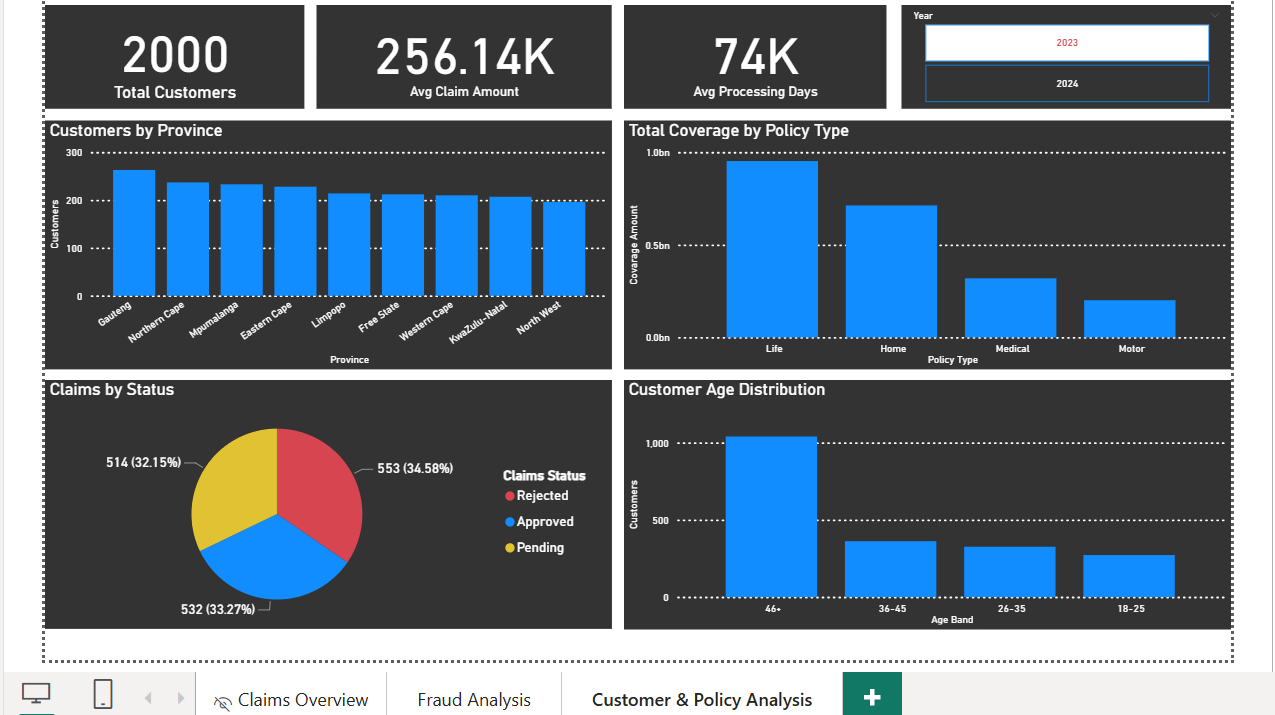

Layout of this report page (visuals, bound fields, positions):
{"tool":"powerbi","page":{"name":"Customer & Policy Analysis","canvas":[1280,720],"ordinal":2},"visuals":[{"type":"card","fields":{"Values":["CountNonNull(dim_Customer.Customer_Key)"]},"box":[0,13,280.1,111.7],"z":0},{"type":"clusteredColumnChart","fields":{"Category":["dim_Customer.Province"],"Y":["CountNonNull(dim_Customer.Customer_Key)"]},"box":[0,137.6,612.1,268.8],"z":1},{"type":"card","fields":{"Values":["Avg(fact_InsuranceClaims.Claim_Amount)"]},"box":[293.1,13,319,111.7],"z":2},{"type":"card","fields":{"Values":["Sum(fact_InsuranceClaims.Processing_Days)"]},"box":[625,13,283.4,111.7],"z":3},{"type":"pieChart","title":"Claims by Status","fields":{"Category":["fact_InsuranceClaims.Claim_Status"],"Y":["CountNonNull(fact_InsuranceClaims.Claim_Id)"]},"box":[0,417.8,612.1,268.8],"z":4},{"type":"clusteredColumnChart","title":" Total Coverage by Policy Type","fields":{"Category":["dim_Policy.Policy_Type"],"Y":["Sum(dim_Policy.Covarage_Amount)"]},"box":[625,137.6,655.8,268.8],"z":5},{"type":"clusteredColumnChart","title":"Customer Age Distribution","fields":{"Category":["dim_Customer.Age_Band"],"Y":["CountNonNull(dim_Customer.Customer_Key)"]},"box":[625,418,655,269],"z":6},{"type":"slicer","fields":{"Values":["dim_Date.Year"]},"box":[924.6,13,356.2,111.7],"z":8}]}

Visuals, with their boxes on the page's 1280x720 design canvas (x1, y1, x2, y2). These are canvas units, not pixel positions in the 1275x715 screenshot, which may show the page scaled, cropped or inside an application window:
card - CountNonNull(dim_Customer.Customer_Key): x1=0 y1=13 x2=280 y2=125
clusteredColumnChart - dim_Customer.Province x CountNonNull(dim_Customer.Customer_Key): x1=0 y1=138 x2=612 y2=406
card - Avg(fact_InsuranceClaims.Claim_Amount): x1=293 y1=13 x2=612 y2=125
card - Sum(fact_InsuranceClaims.Processing_Days): x1=625 y1=13 x2=908 y2=125
"Claims by Status" pieChart: x1=0 y1=418 x2=612 y2=687
" Total Coverage by Policy Type" clusteredColumnChart: x1=625 y1=138 x2=1281 y2=406
"Customer Age Distribution" clusteredColumnChart: x1=625 y1=418 x2=1280 y2=687
slicer - dim_Date.Year: x1=925 y1=13 x2=1281 y2=125
